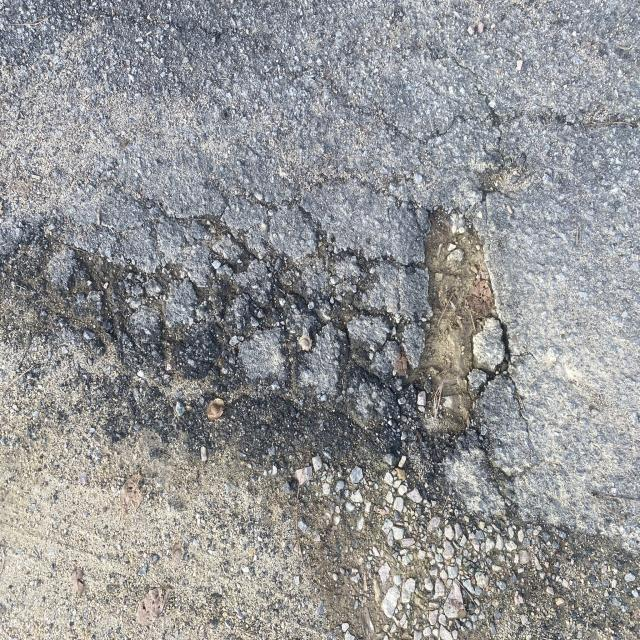Pothole: (81, 210, 588, 441)
